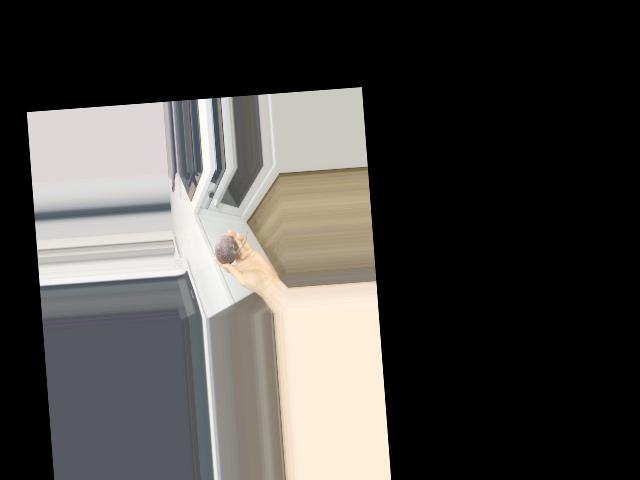beet: (213, 230, 250, 264)
